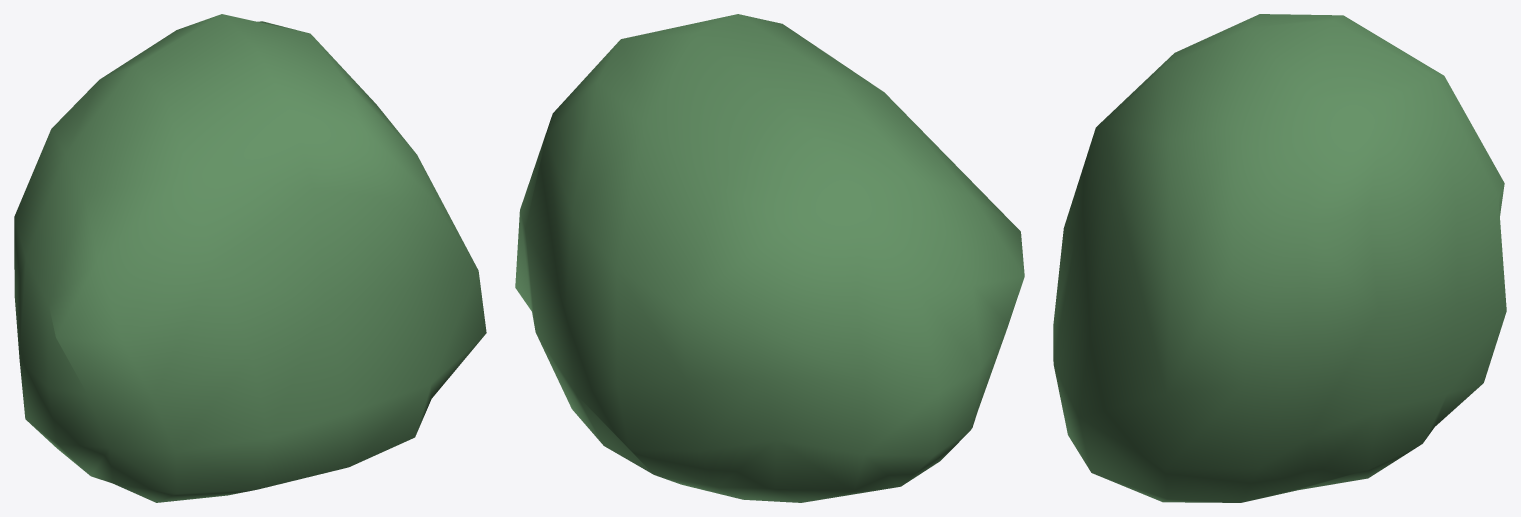
File: Bush_4.fbx
3 renders of one model, left to right at view 1: azimuth 30°, elevation 25°; view 2: azimuth 150°, elevation 25°; view 3: azimuth 270°, elevation 25°, orthographic. The views are drawn at different scales.
Parts seen in each view (by area): view 1: Bush_4; view 2: Bush_4; view 3: Bush_4.
Part boxes in pixels (<box>): Bush_4: <box>14,14,486,502</box>; Bush_4: <box>515,14,1024,502</box>; Bush_4: <box>1053,14,1506,502</box>.
Bounding box in the file's own units: 3.5 × 3.19 × 2.85.
